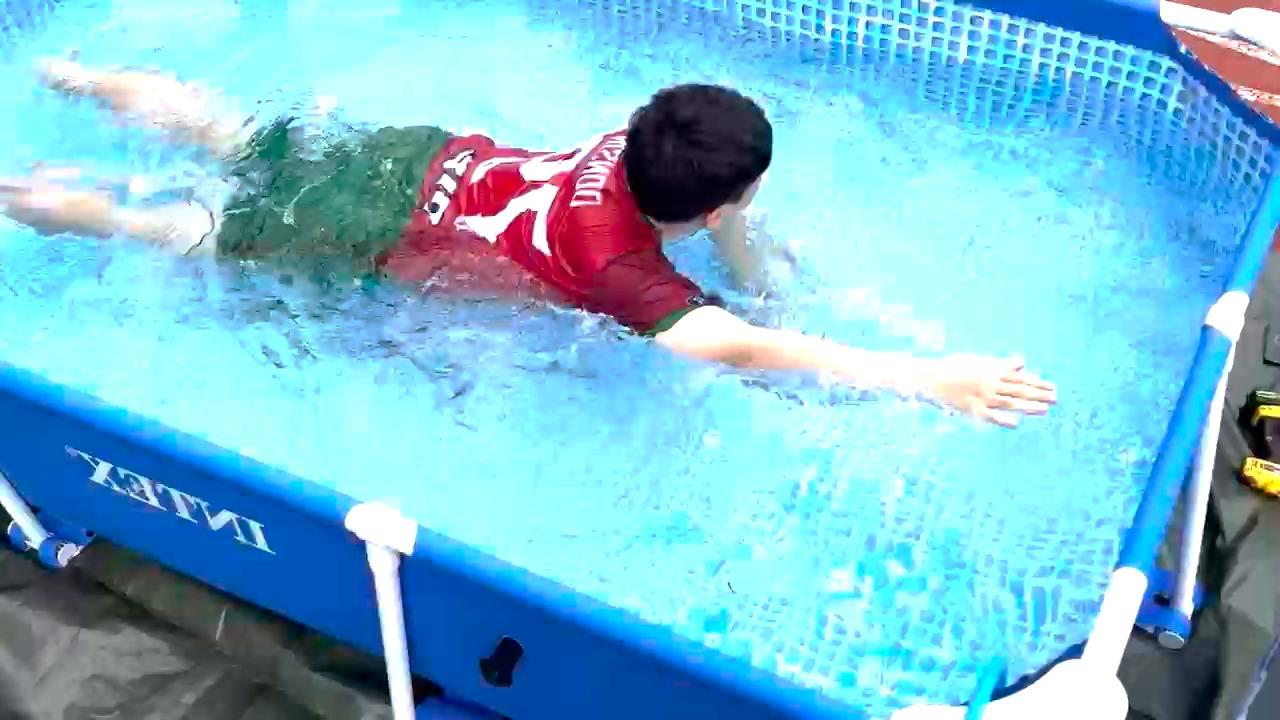Swimming: (10, 15, 1124, 468)
